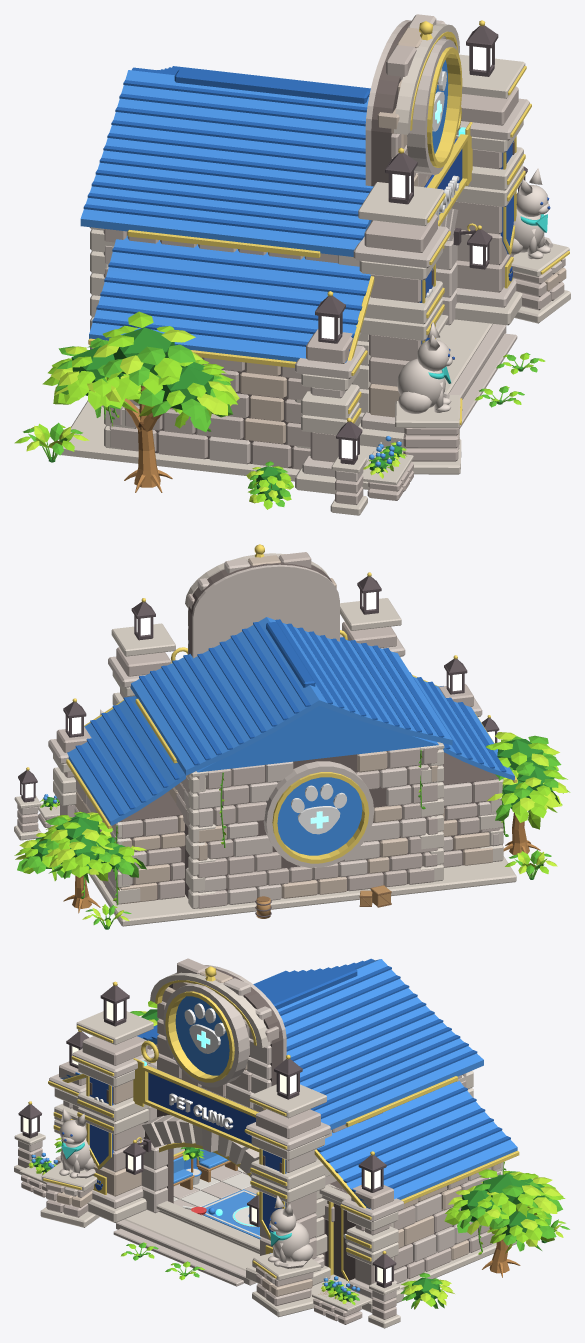
Rendered from TowerOfPets_PetClinic.fbx.
3 renders of one model, top to bottom at view 1: azimuth 30°, elevation 25°; view 2: azimuth 150°, elevation 25°; view 3: azimuth 270°, elevation 25°, orthographic. The views are drawn at different scales.
Visible parts, largest first — view 1: PetClinic_Roofs__Clinic_Roof, PetClinic_Roofs__Clinic_Roof_Dark, PetClinic_Pillars__Castle_Trim, PetClinic_Pillars__Castle_Stone, PetClinic_Wings__Castle_Stone, PetClinic_Floor__Castle_Trim, PetClinic_Land_Tree_Medium_High_2__Leaves_Light, PetClinic_Pillars__Castle_Stone_Light, PetClinic_Wings__Castle_Trim, PetClinic_Land_Tree_Medium_High_2__Leaves_Mid, PetClinic_Wings__Castle_Stone_Warm, PetClinic_Statue_L__Clinic_Statue (+33 smaller); view 2: PetClinic_Roofs__Clinic_Roof, PetClinic_Roofs__Clinic_Roof_Dark, PetClinic_Hall_Walls__Castle_Stone, PetClinic_Facade__Castle_Stone_Light, PetClinic_Hall_Walls__Castle_Stone_Light, PetClinic_Roofs__Clinic_Blue, PetClinic_Floor__Castle_Trim, PetClinic_Wings__Castle_Stone, PetClinic_Back_Emblem__Clinic_Blue, PetClinic_Hall_Walls__Castle_Trim, PetClinic_Hall_Walls__Castle_Stone_Warm, PetClinic_Wings__Castle_Stone_Warm (+27 smaller); view 3: PetClinic_Roofs__Clinic_Roof, PetClinic_Roofs__Clinic_Roof_Dark, PetClinic_Pillars__Castle_Trim, PetClinic_Facade__Castle_Stone_Light, PetClinic_Pillars__Castle_Stone, PetClinic_Facade__Castle_Trim, PetClinic_Wings__Castle_Stone, PetClinic_Floor__Castle_Trim, PetClinic_Floor__Castle_Stone_Light, PetClinic_Wings__Castle_Stone_Light, PetClinic_Wings__Castle_Trim, PetClinic_Pillars__Castle_Stone_Light (+44 smaller).
Boxes of the visible parts, <box> form: PetClinic_Roofs__Clinic_Roof: <box>80,70,373,362</box>; PetClinic_Roofs__Clinic_Roof_Dark: <box>83,66,372,350</box>; PetClinic_Pillars__Castle_Trim: <box>357,54,525,448</box>; PetClinic_Pillars__Castle_Stone: <box>364,86,518,386</box>; PetClinic_Wings__Castle_Stone: <box>109,329,353,469</box>; PetClinic_Floor__Castle_Trim: <box>61,319,492,489</box>; PetClinic_Land_Tree_Medium_High_2__Leaves_Light: <box>42,311,237,428</box>; PetClinic_Pillars__Castle_Stone_Light: <box>353,98,529,432</box>; PetClinic_Wings__Castle_Trim: <box>104,332,365,494</box>; PetClinic_Land_Tree_Medium_High_2__Leaves_Mid: <box>55,338,232,431</box>; PetClinic_Wings__Castle_Stone_Warm: <box>169,362,286,443</box>; PetClinic_Statue_L__Clinic_Statue: <box>397,322,452,413</box>; PetClinic_Roofs__Clinic_Roof: <box>67,617,514,825</box>; PetClinic_Roofs__Clinic_Roof_Dark: <box>75,619,506,815</box>; PetClinic_Hall_Walls__Castle_Stone: <box>174,747,438,908</box>; PetClinic_Facade__Castle_Stone_Light: <box>188,559,339,658</box>; PetClinic_Hall_Walls__Castle_Stone_Light: <box>168,761,426,904</box>; PetClinic_Roofs__Clinic_Blue: <box>196,705,438,772</box>; PetClinic_Floor__Castle_Trim: <box>89,856,516,926</box>; PetClinic_Wings__Castle_Stone: <box>56,684,503,899</box>; PetClinic_Back_Emblem__Clinic_Blue: <box>277,777,362,855</box>; PetClinic_Hall_Walls__Castle_Trim: <box>185,742,444,908</box>; PetClinic_Hall_Walls__Castle_Stone_Warm: <box>169,751,438,898</box>; PetClinic_Wings__Castle_Stone_Warm: <box>75,792,492,903</box>; PetClinic_Roofs__Clinic_Roof: <box>60,959,517,1209</box>; PetClinic_Roofs__Clinic_Roof_Dark: <box>66,958,510,1200</box>; PetClinic_Pillars__Castle_Trim: <box>76,1011,330,1285</box>; PetClinic_Facade__Castle_Stone_Light: <box>141,965,286,1213</box>; PetClinic_Pillars__Castle_Stone: <box>82,1036,320,1259</box>; PetClinic_Facade__Castle_Trim: <box>143,972,331,1259</box>; PetClinic_Wings__Castle_Stone: <box>59,1061,494,1285</box>; PetClinic_Floor__Castle_Trim: <box>124,1210,516,1309</box>; PetClinic_Floor__Castle_Stone_Light: <box>113,1165,259,1286</box>; PetClinic_Wings__Castle_Stone_Light: <box>49,1074,500,1298</box>; PetClinic_Wings__Castle_Trim: <box>54,1088,503,1312</box>; PetClinic_Pillars__Castle_Stone_Light: <box>72,1049,330,1268</box>.
Size of the model in its own units: 7021 by 3923 by 7006.
